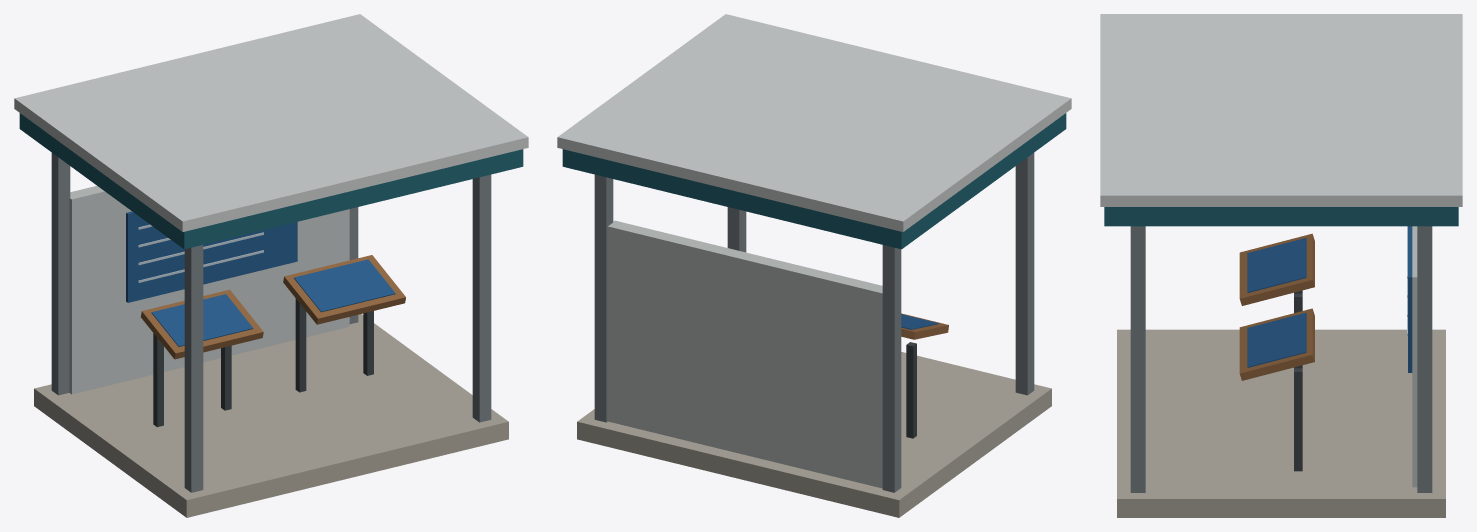
The model's file is w-drafting-pavilion.glb.
The picture shows the model from 3 angles, left to right: view 1: azimuth 30°, elevation 25°; view 2: azimuth 150°, elevation 25°; view 3: azimuth 270°, elevation 25°; orthographic projection. The views are drawn at different scales.
Parts seen in each view (by area): view 1: w-drafting-pavilion; view 2: w-drafting-pavilion; view 3: w-drafting-pavilion.
Boxes of the visible parts, <box> form: w-drafting-pavilion: <box>14,14,528,517</box>; w-drafting-pavilion: <box>557,14,1071,517</box>; w-drafting-pavilion: <box>1100,14,1462,517</box>.
Bounding box in the file's own units: 2.04 × 1.72 × 1.72.
